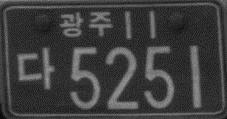1: (188, 43, 204, 110), (147, 8, 158, 40), (122, 9, 133, 40)
2: (105, 45, 139, 111)
5: (69, 45, 101, 110), (143, 45, 175, 108)
광주_O: (59, 10, 114, 39)
다: (16, 45, 55, 91)
